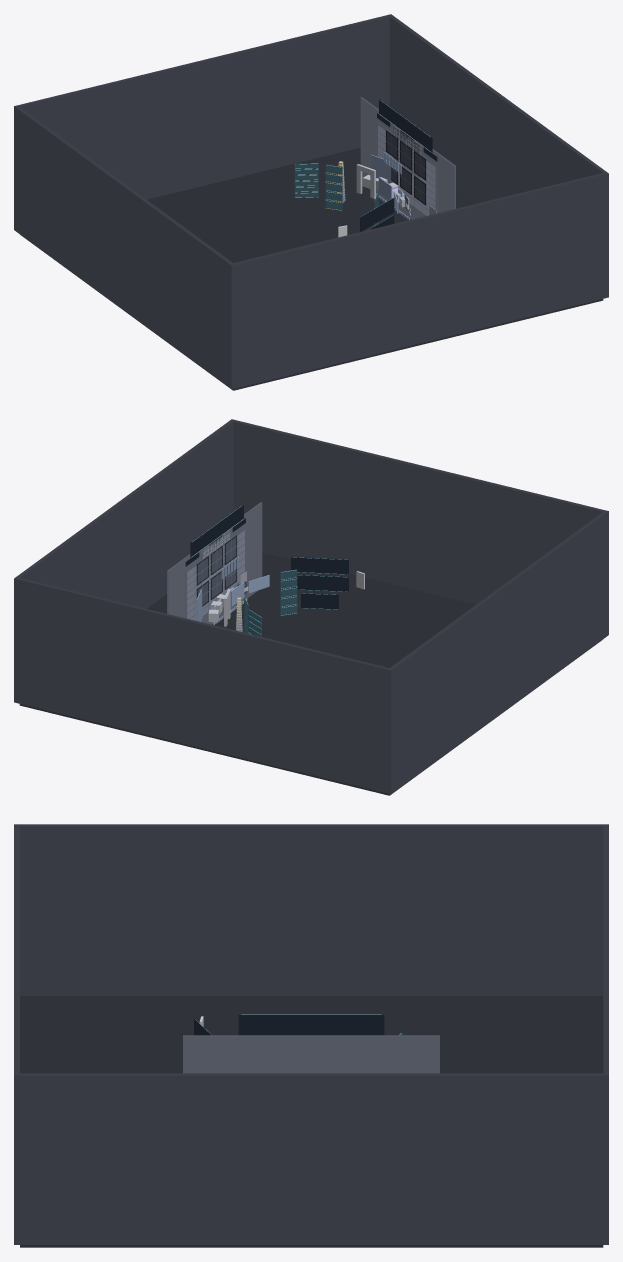
File: world.glb
The picture shows the model from 3 angles, top to bottom: view 1: azimuth 30°, elevation 25°; view 2: azimuth 150°, elevation 25°; view 3: azimuth 270°, elevation 25°; orthographic projection. The views are drawn at different scales.
Parts seen in each view (by area): view 1: WallRight, WallLeft, WallBack, WallFront, Floor, Board, TxtTitle, TxtStatus; view 2: WallLeft, WallRight, WallBack, WallFront, Floor, Board, TxtStatus, TxtTitle, TxtStatusB, TxtLog, GridBoard; view 3: WallFront, WallBack, Floor, Board, TxtTitle, WallLeft, WallRight.
Boxes of the visible parts, <box> form: WallRight: <box>229,172,608,389</box>; WallLeft: <box>14,14,391,199</box>; WallBack: <box>14,106,235,389</box>; WallFront: <box>389,14,608,295</box>; Floor: <box>21,147,603,390</box>; Board: <box>360,97,455,219</box>; TxtTitle: <box>379,99,432,152</box>; TxtStatus: <box>360,198,394,231</box>; WallLeft: <box>14,578,393,794</box>; WallRight: <box>230,419,608,635</box>; WallBack: <box>387,511,608,794</box>; WallFront: <box>14,419,234,699</box>; Floor: <box>19,552,601,795</box>; Board: <box>167,502,262,624</box>; TxtStatus: <box>291,557,348,574</box>; TxtTitle: <box>190,504,243,557</box>; TxtStatusB: <box>291,574,348,591</box>; TxtLog: <box>301,593,338,609</box>; GridBoard: <box>185,527,245,619</box>; WallFront: <box>14,1073,608,1244</box>; WallBack: <box>14,824,608,995</box>; Floor: <box>20,996,603,1247</box>; Board: <box>183,1035,439,1073</box>; TxtTitle: <box>238,1014,384,1035</box>; WallLeft: <box>603,824,608,1244</box>; WallRight: <box>14,825,19,1244</box>.
Size of what is drawn, in the model's own units: 10.2 by 3.3 by 10.2.
Materials: 39 (1 with a texture image).
